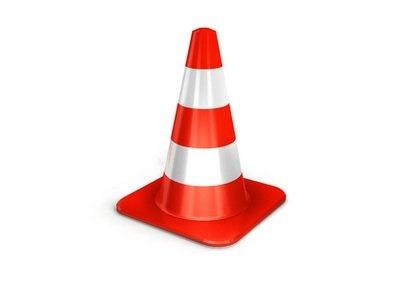cone_barrel: (139, 28, 260, 225)
